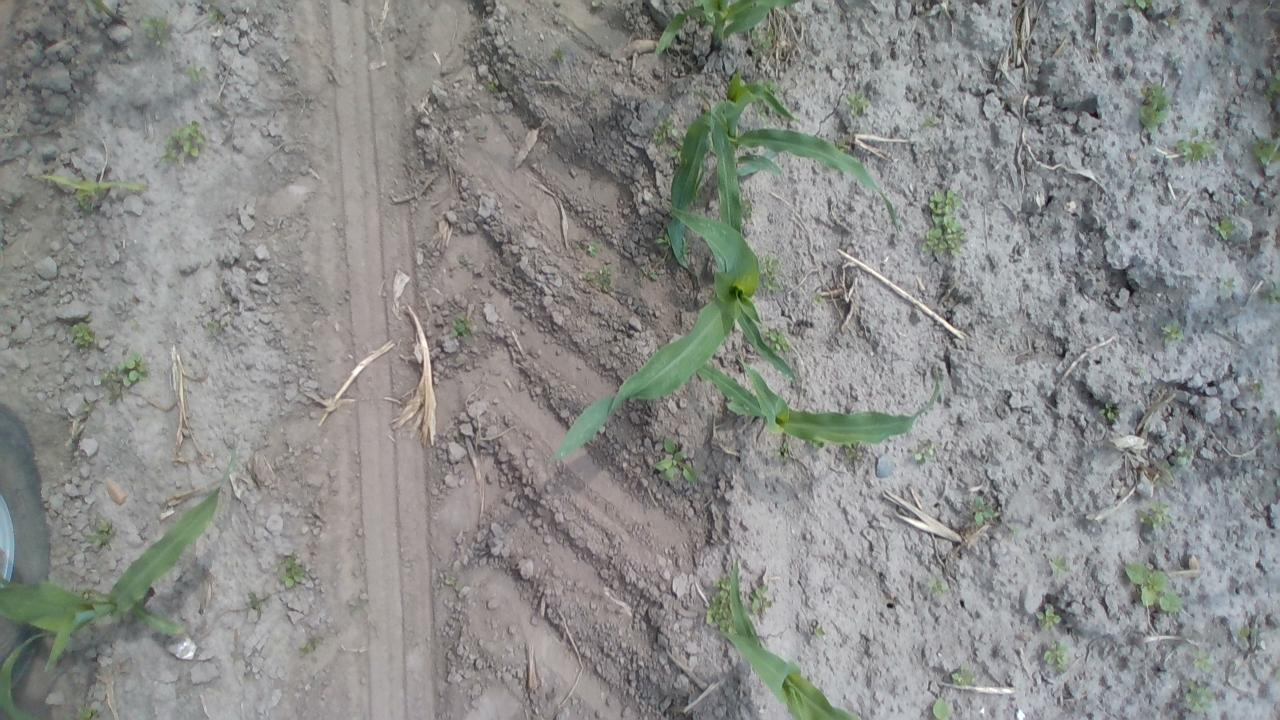Maize: (547, 103, 799, 464), (2, 443, 238, 685), (668, 70, 904, 250), (679, 346, 938, 457), (700, 556, 860, 720), (646, 0, 796, 65)
Weeds: (44, 170, 149, 214), (919, 185, 970, 259), (1126, 560, 1180, 614), (100, 351, 152, 402), (157, 119, 210, 166), (651, 434, 699, 485), (1136, 79, 1174, 139), (1172, 128, 1220, 169), (705, 577, 735, 638), (1180, 676, 1216, 717), (651, 116, 682, 163), (140, 13, 178, 50), (82, 515, 119, 551), (63, 318, 101, 352), (276, 550, 308, 590), (579, 262, 615, 296), (1136, 502, 1174, 534), (967, 494, 1002, 528), (841, 88, 872, 124), (745, 581, 776, 616), (1041, 638, 1071, 674), (1034, 601, 1066, 632), (1250, 132, 1276, 170), (760, 252, 784, 292), (762, 325, 792, 355), (746, 27, 778, 55), (292, 634, 326, 660), (1158, 319, 1192, 345), (949, 660, 978, 690), (448, 314, 476, 344), (909, 439, 938, 467), (1212, 214, 1240, 242), (1046, 552, 1074, 580), (1260, 70, 1278, 110), (242, 590, 268, 616), (1172, 443, 1192, 476), (925, 575, 950, 599), (179, 62, 205, 84), (754, 97, 775, 124), (1097, 400, 1122, 422), (772, 439, 794, 464), (1190, 649, 1214, 670), (641, 264, 666, 284), (1116, 0, 1157, 12), (1233, 622, 1255, 644), (438, 572, 462, 592), (1246, 376, 1266, 399), (206, 7, 230, 26), (810, 622, 830, 644), (1006, 519, 1026, 541), (738, 194, 754, 221), (1261, 282, 1278, 306), (75, 703, 102, 718), (579, 236, 599, 256), (1218, 274, 1238, 294), (920, 112, 940, 131), (654, 231, 672, 252), (840, 446, 862, 463), (809, 290, 827, 310), (480, 76, 498, 93), (552, 44, 568, 63), (1238, 195, 1254, 212)
